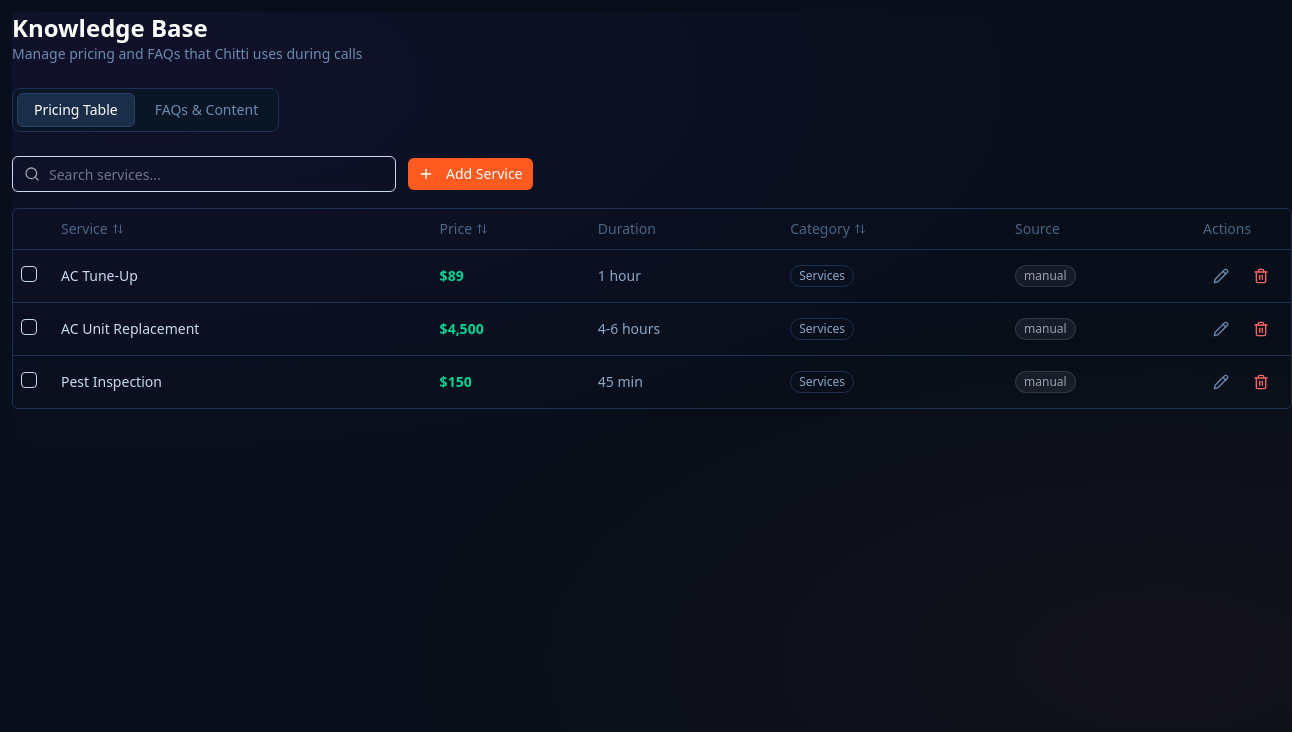
Test: KnowledgeBasePage › should enter edit mode when edit button is clicked on pricing row
Click the button named "Edit" in the row of "AC Tune-Up". click: [1221, 276]
box: [1203,258,1239,294]
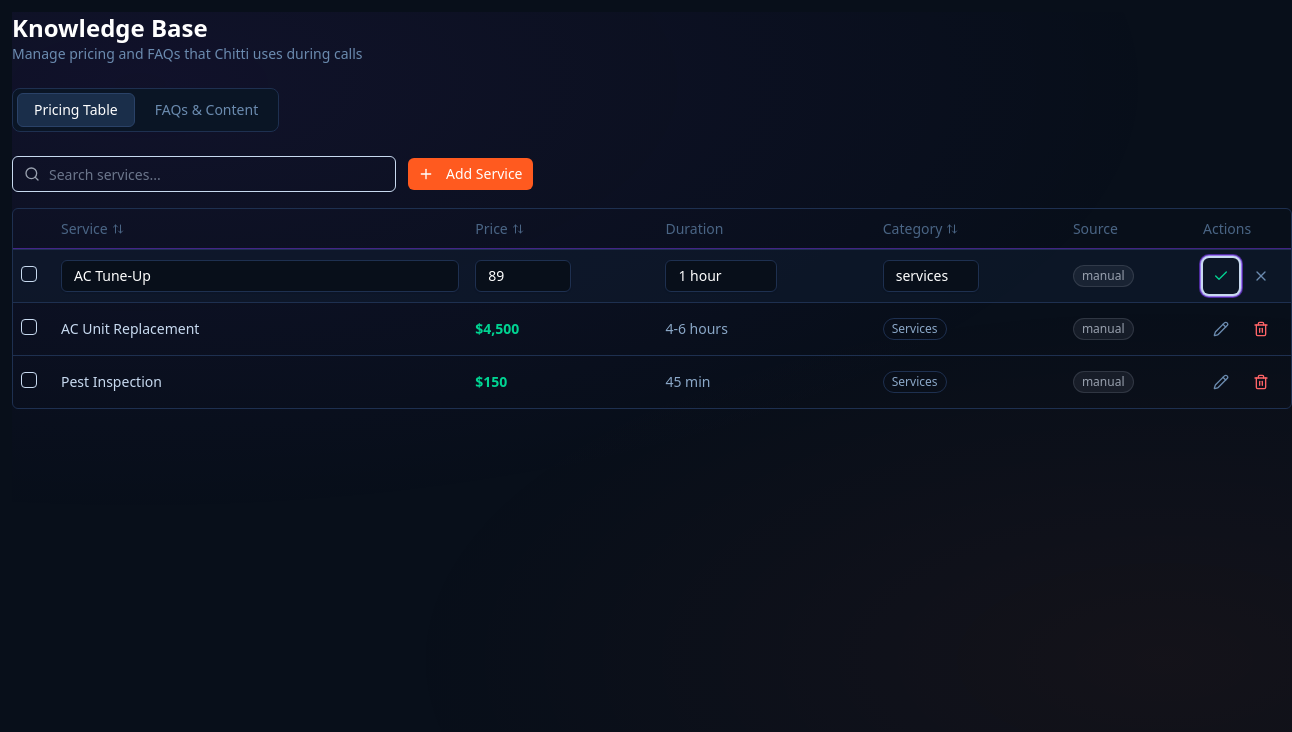
Expected: the button named "Save" is shown, [1203,258,1239,294]
Expected: the button named "Cancel" is shown, [1243,258,1279,294]
